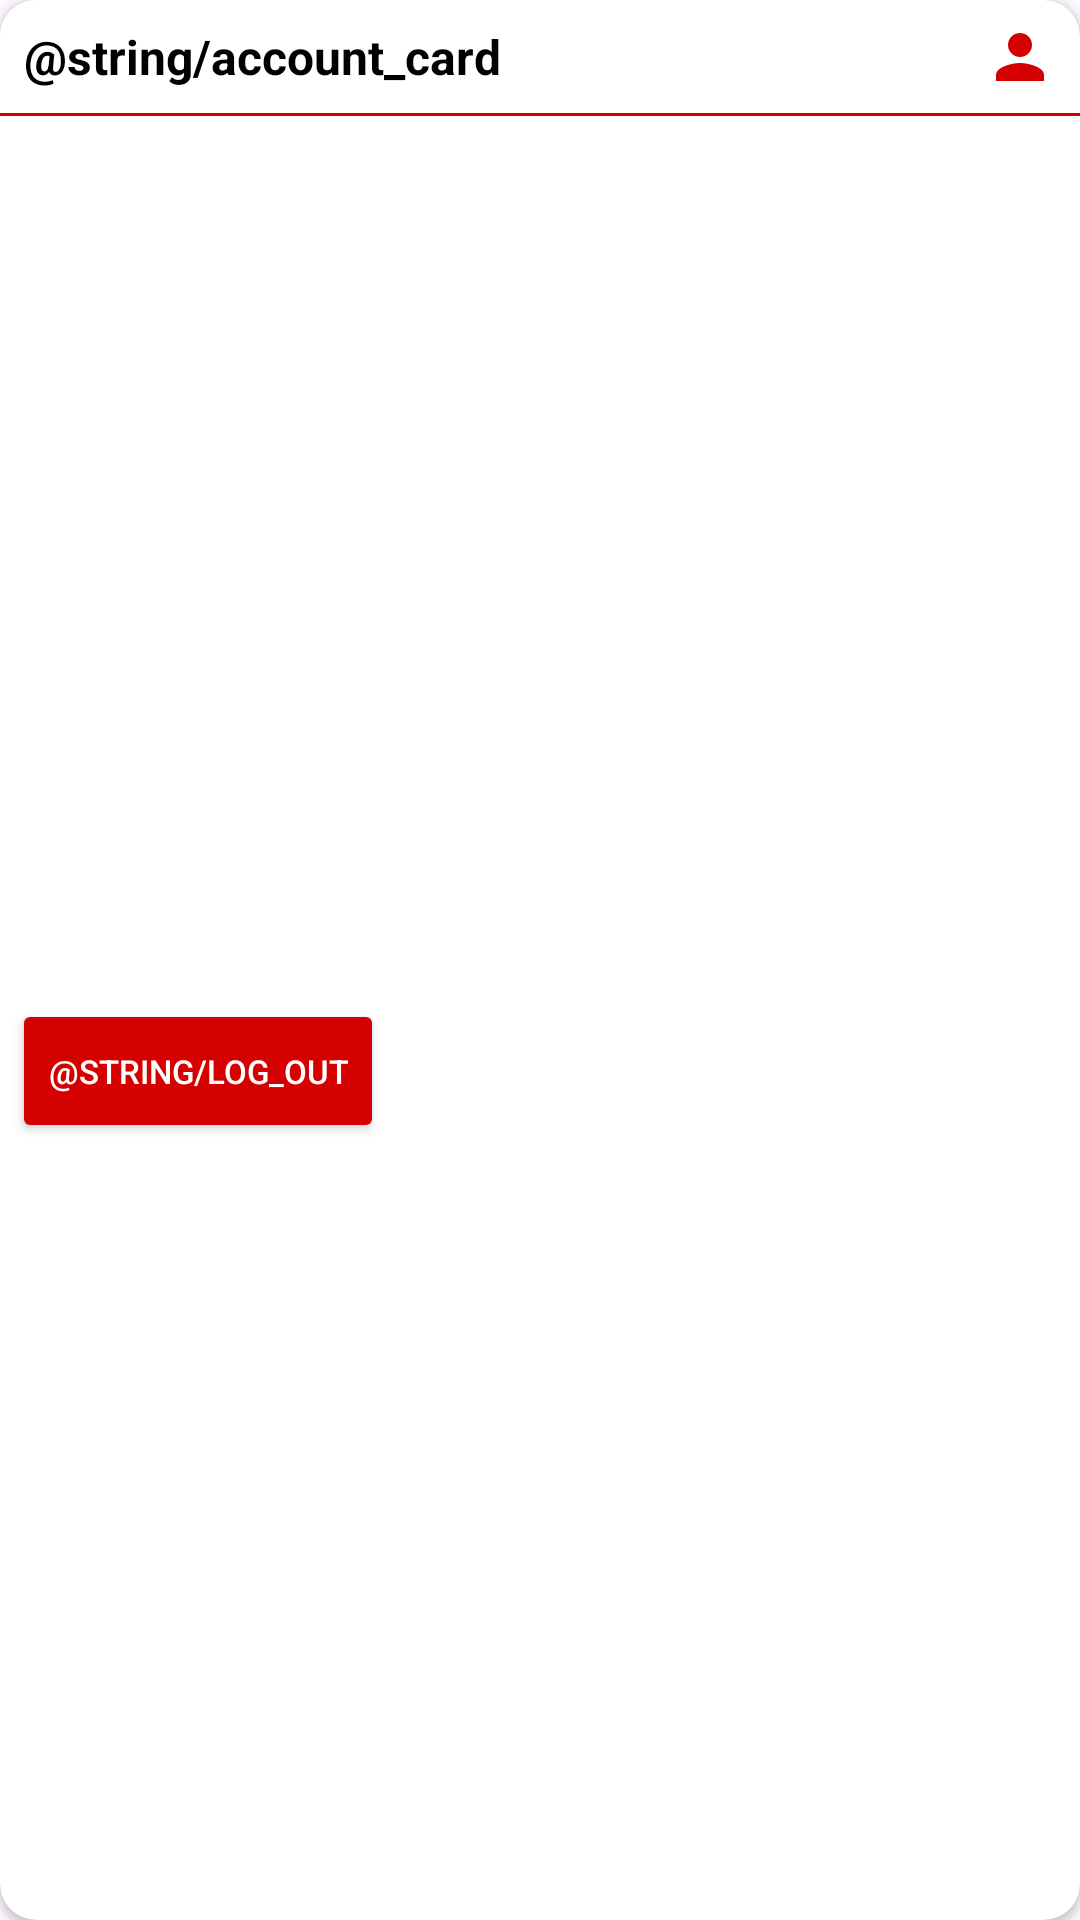

Locate icon controls on the screen. Image size 1080px x 1920px, boxes as box(x1, y1, x2, y2).
person: box(996, 33, 1044, 81)
